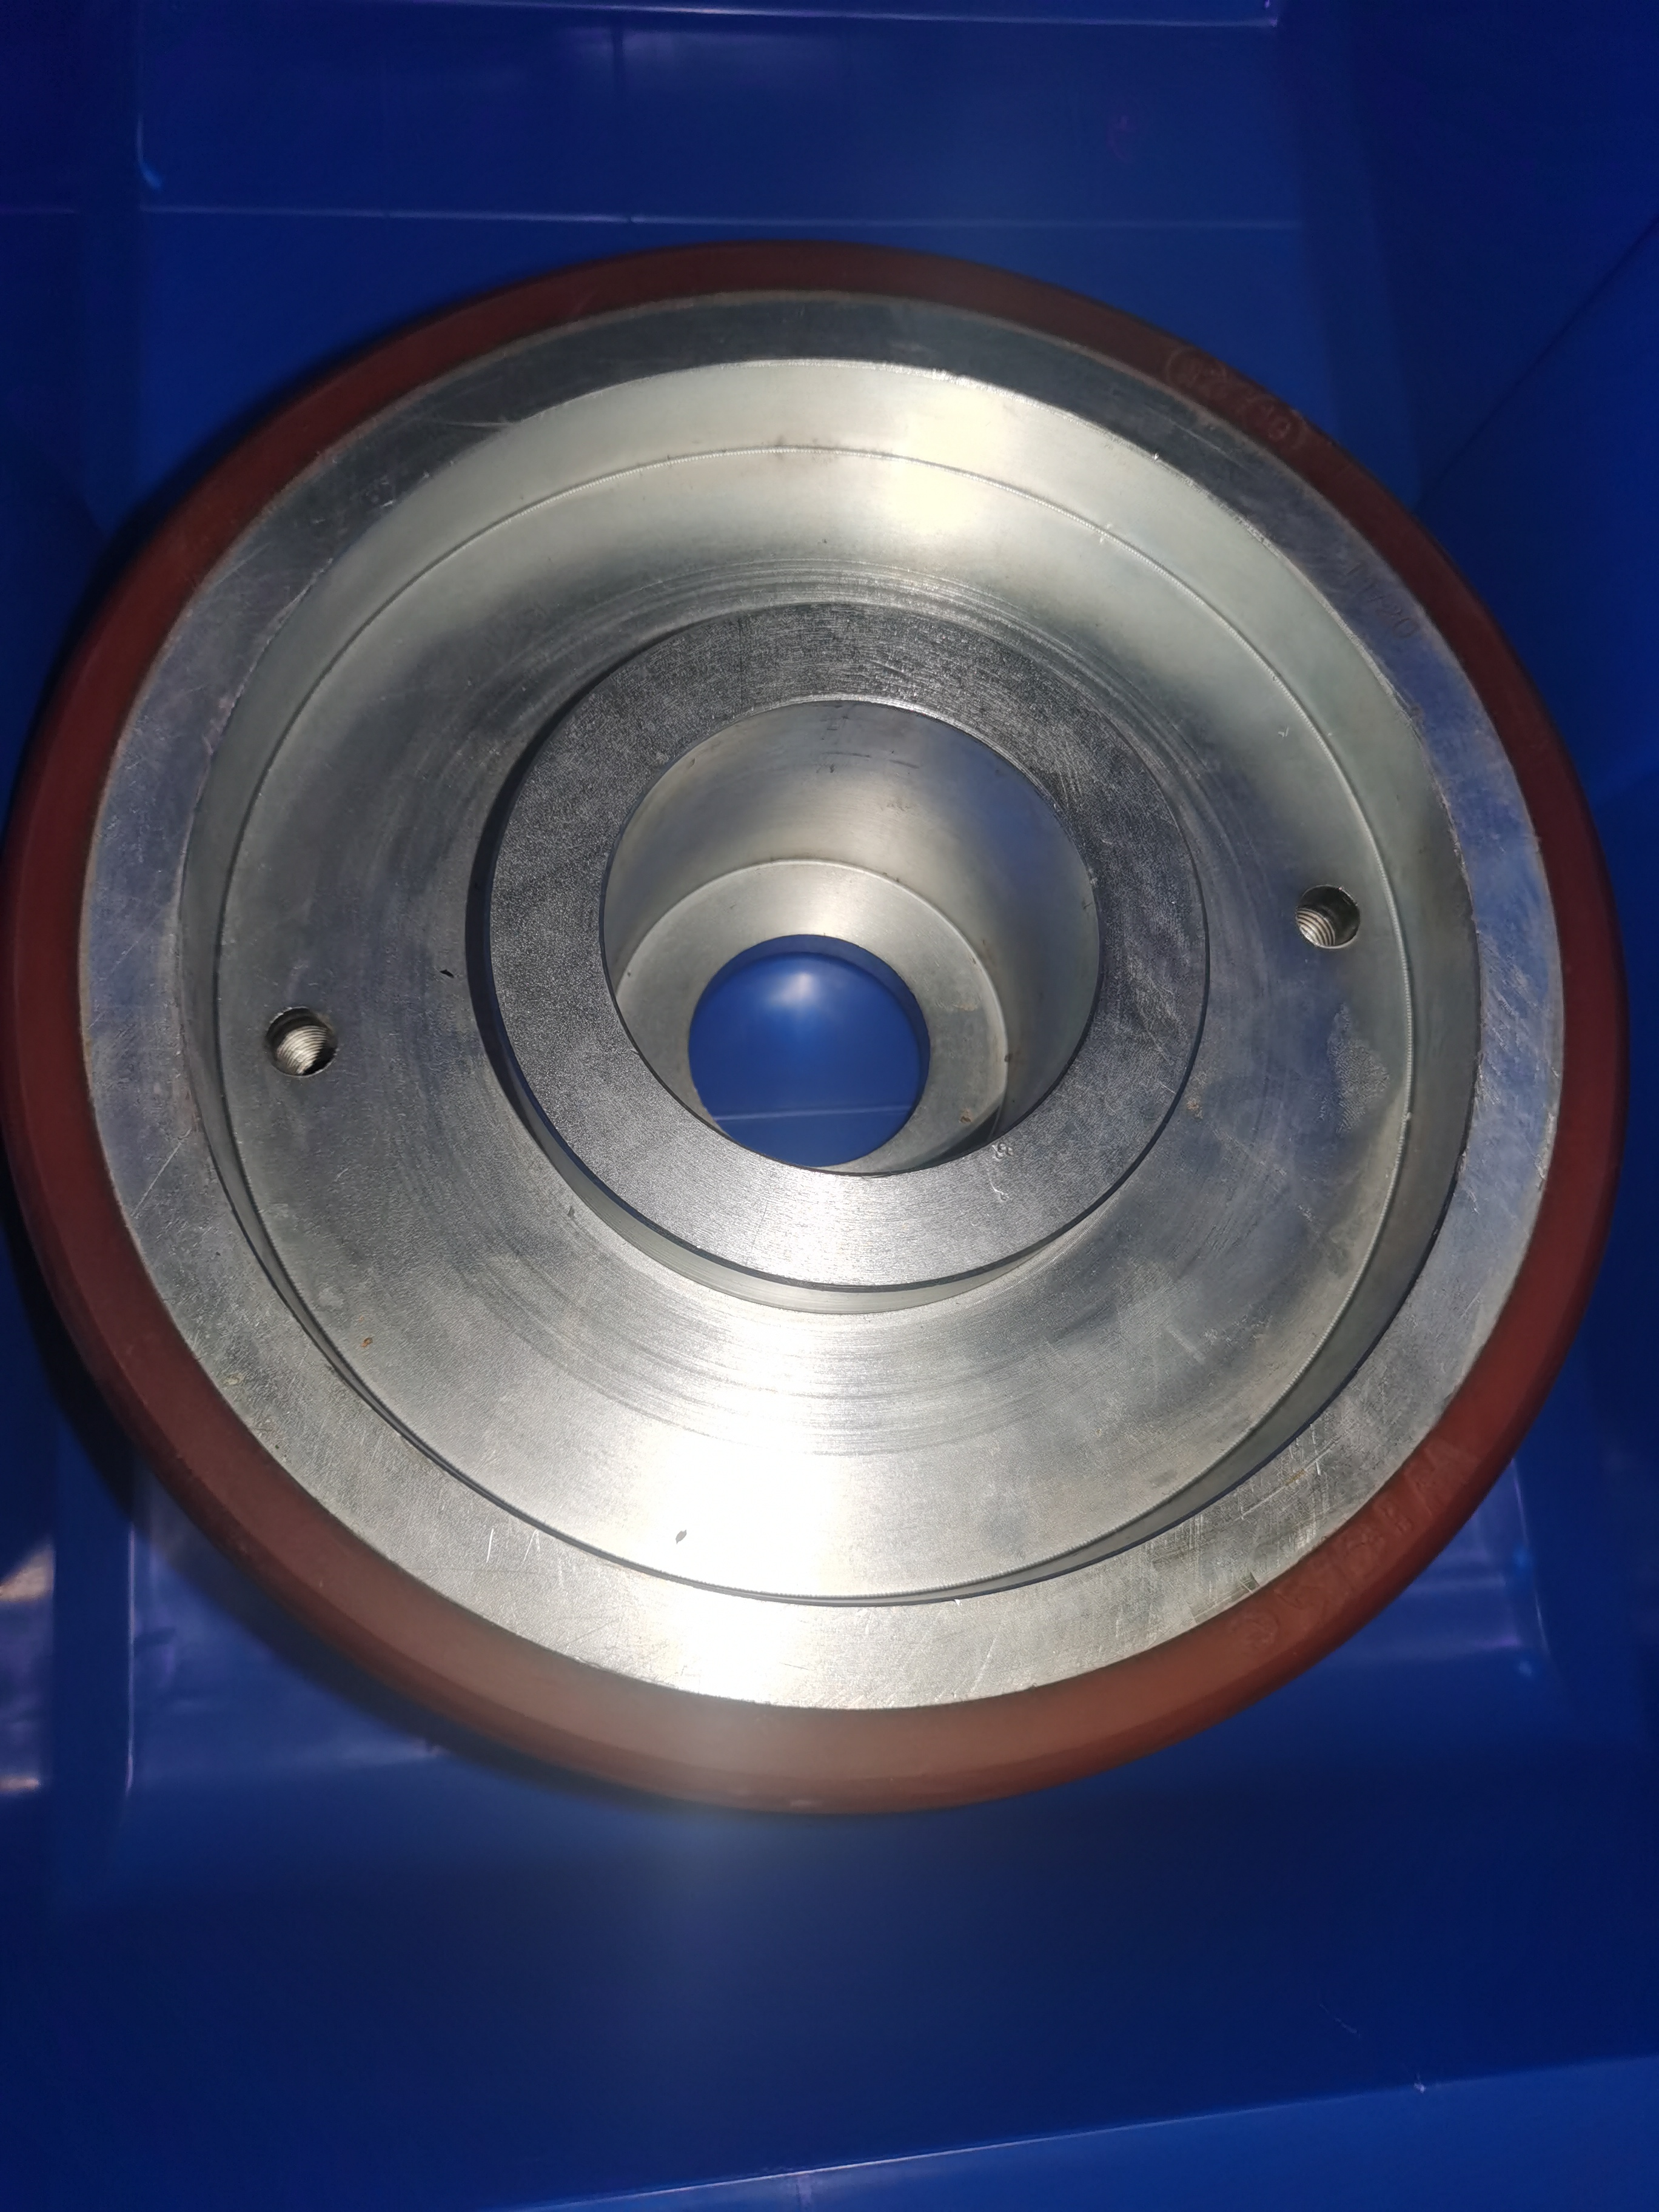good_wheel: (54, 265, 1619, 1831)
